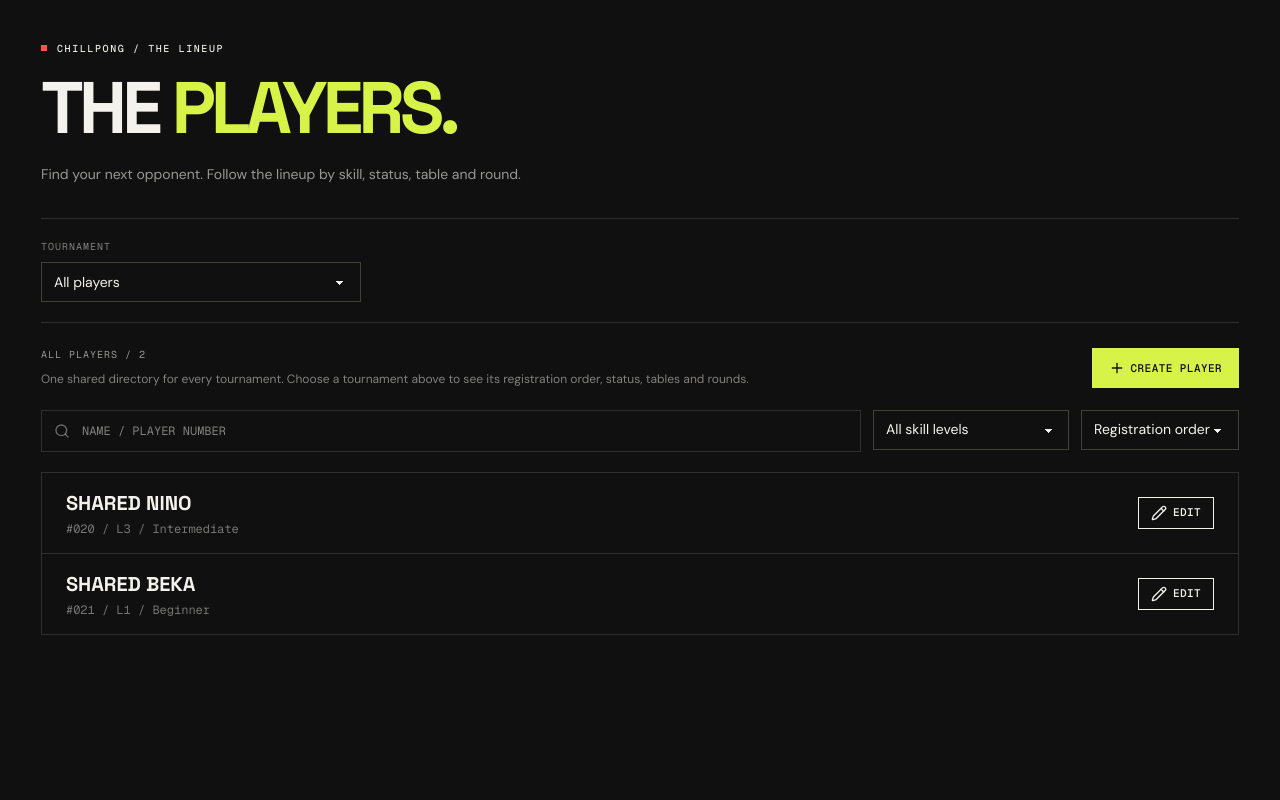
Players page › lets an admin save player changes in the selected tournament
The image size is (1280, 800).
Select "Night Rally / live" in the dropdown labelled "Tournament": (201, 282) [41, 262, 361, 302]
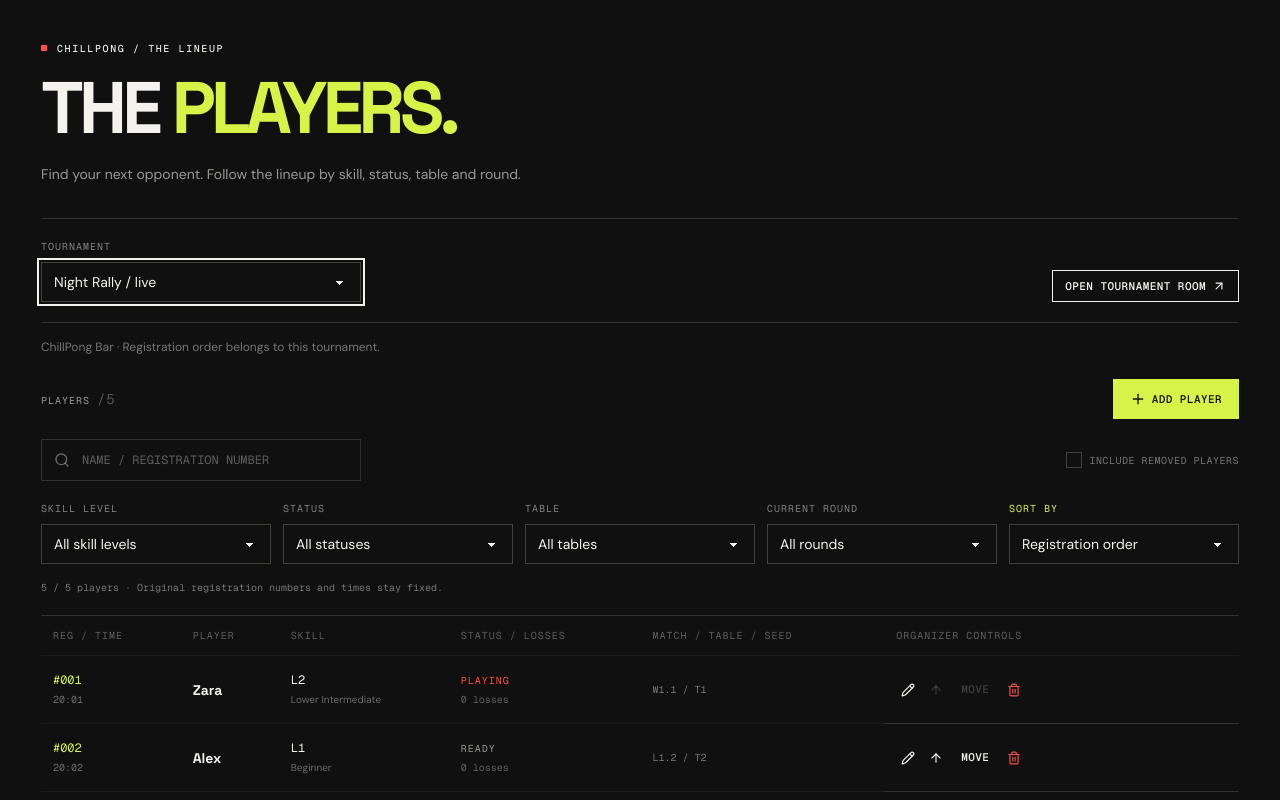
Click the button "Add player": click(1176, 399) [1113, 379, 1239, 419]
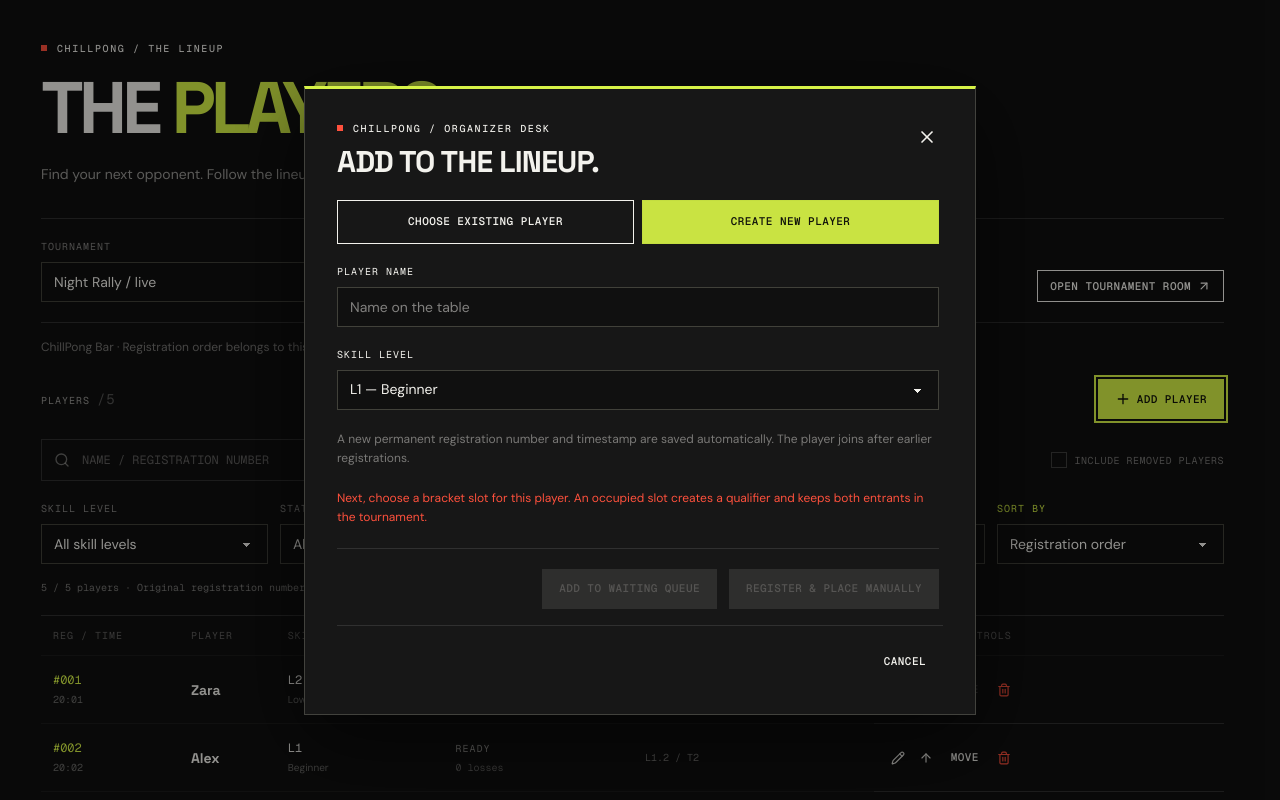
In the field labelled "Player name": (638, 306) [337, 286, 939, 326], type "Tako"
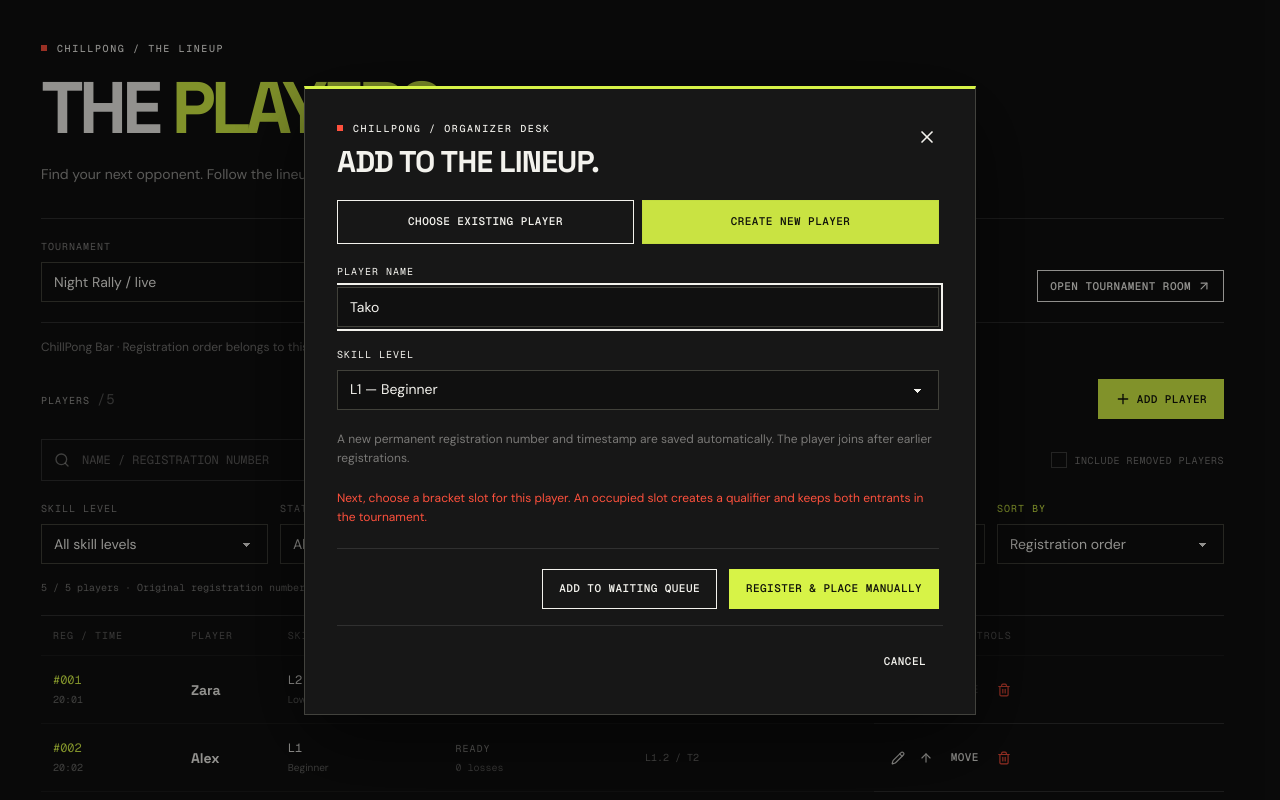
Select "L3 — Intermediate" in the dropdown labelled "Skill level": (638, 390) [337, 370, 939, 410]
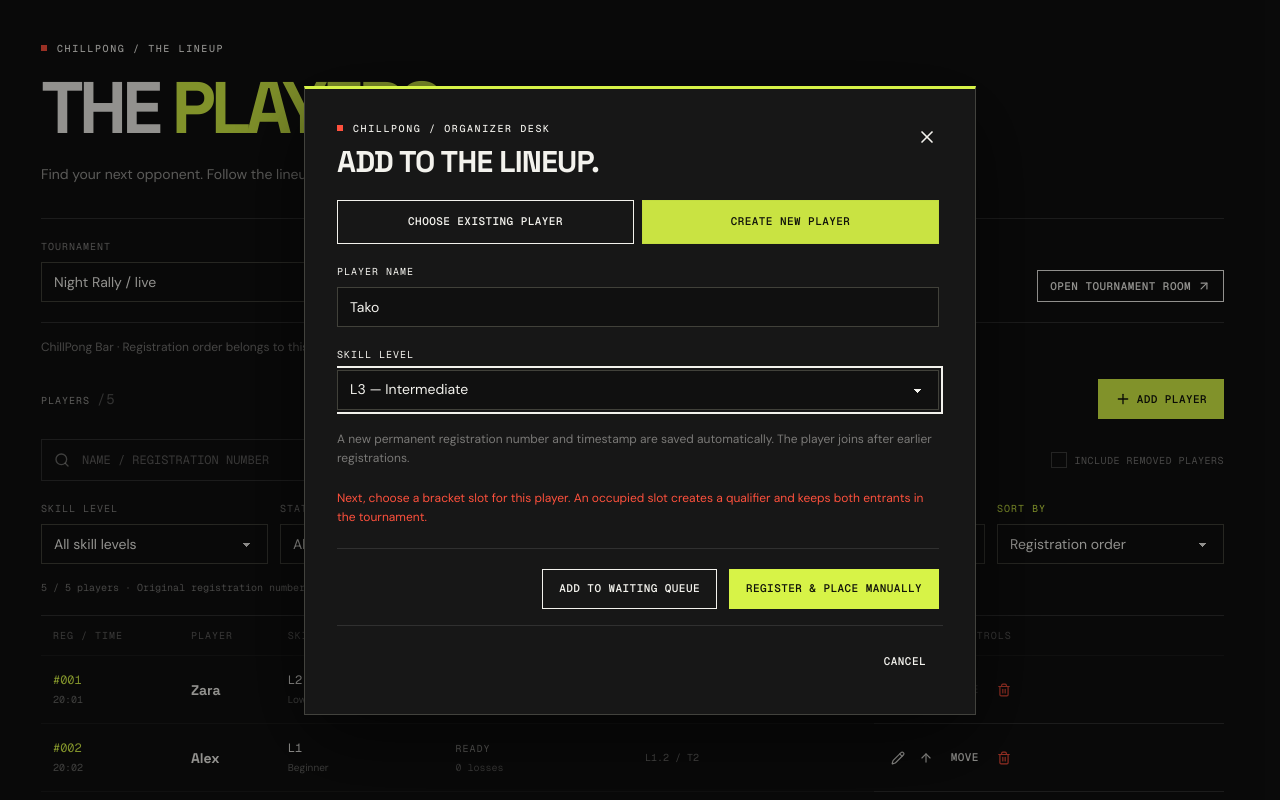
Click the button "Add to waiting queue": click(630, 588) [542, 568, 717, 608]
(page scrolled)
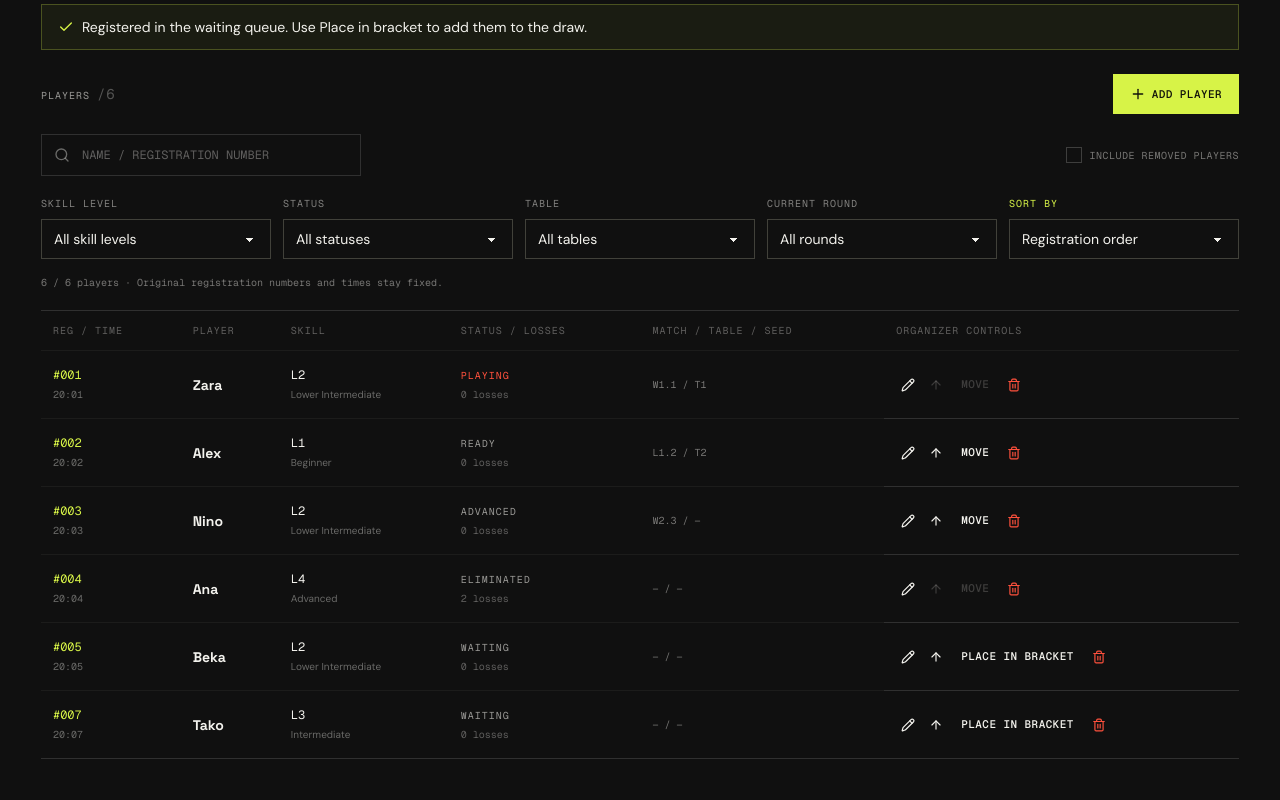
Expected: the column heading "Tako" is shown, [181, 691, 279, 758]
Expected: the text "Registered in the waiting queue. Use Place in bracket to add them to the draw." is shown, [41, 4, 1239, 50]
Expected: the button named "Place in bracket Tako" is enabled, [952, 713, 1083, 737]
